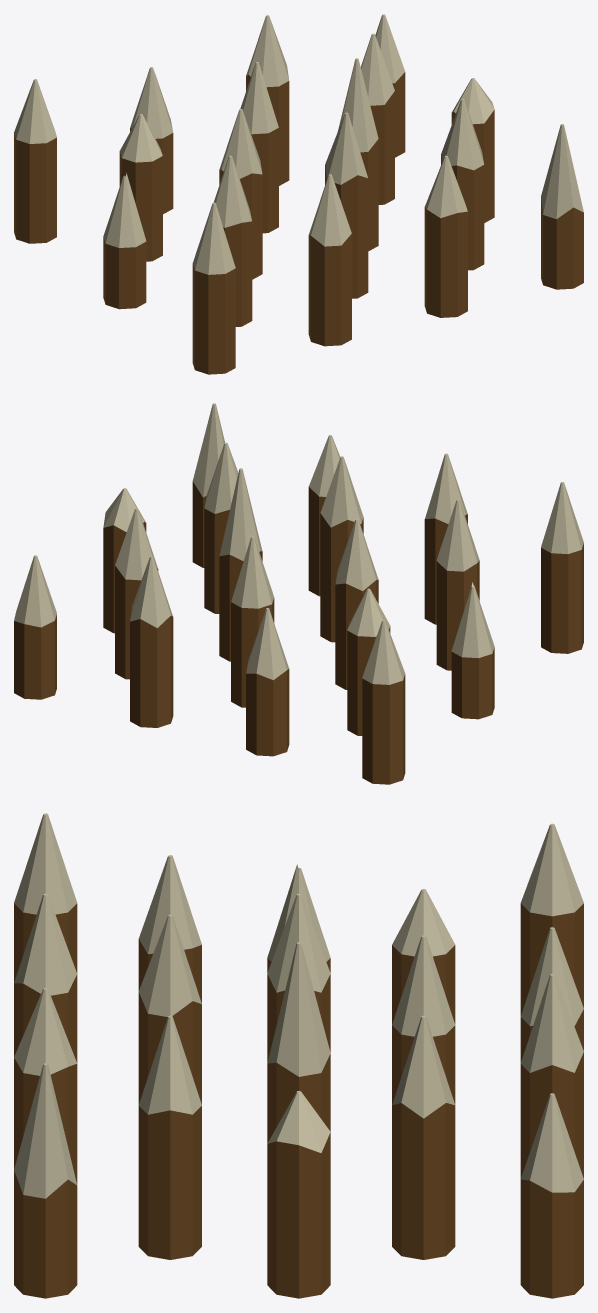
The model's file is Trap1_Üst.fbx.
3 views of the same model, one above another, from view 1: azimuth 30°, elevation 25°; view 2: azimuth 150°, elevation 25°; view 3: azimuth 270°, elevation 25° (orthographic). The views are drawn at different scales.
Parts seen in each view (by area): view 1: Cylinder.023; view 2: Cylinder.023; view 3: Cylinder.023.
Boxes of the visible parts, x1,y1,x2,y2 form: Cylinder.023: (14, 14, 583, 374); Cylinder.023: (14, 403, 583, 784); Cylinder.023: (14, 813, 583, 1298).
Size of the model in its own units: 0.84 by 0.383 by 0.756.
